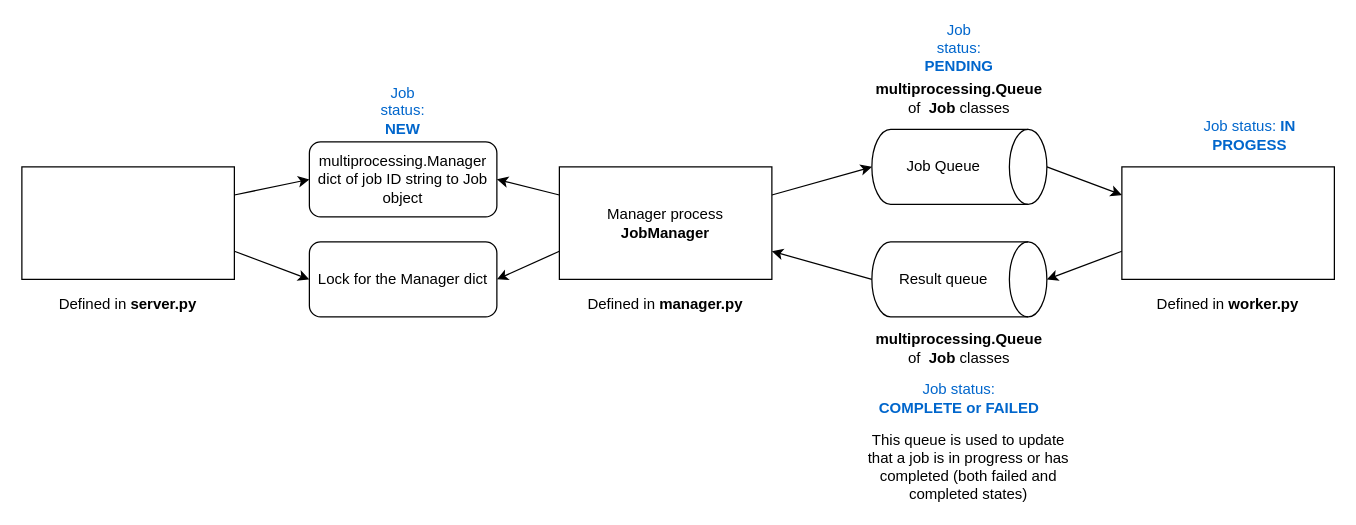
This 1356x525 diagram has some shape labels left out. Here are the shapes that lost their labels. From the top down, the centre of each, then its label:
the point at 127,222: Flask API
the point at 1227,222: Translation worker process TranslationWorker
